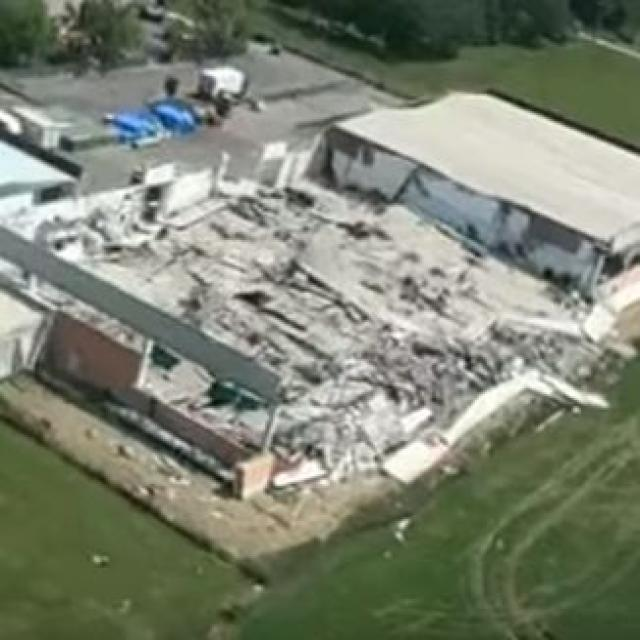collapsed_building: (16, 152, 514, 472)
